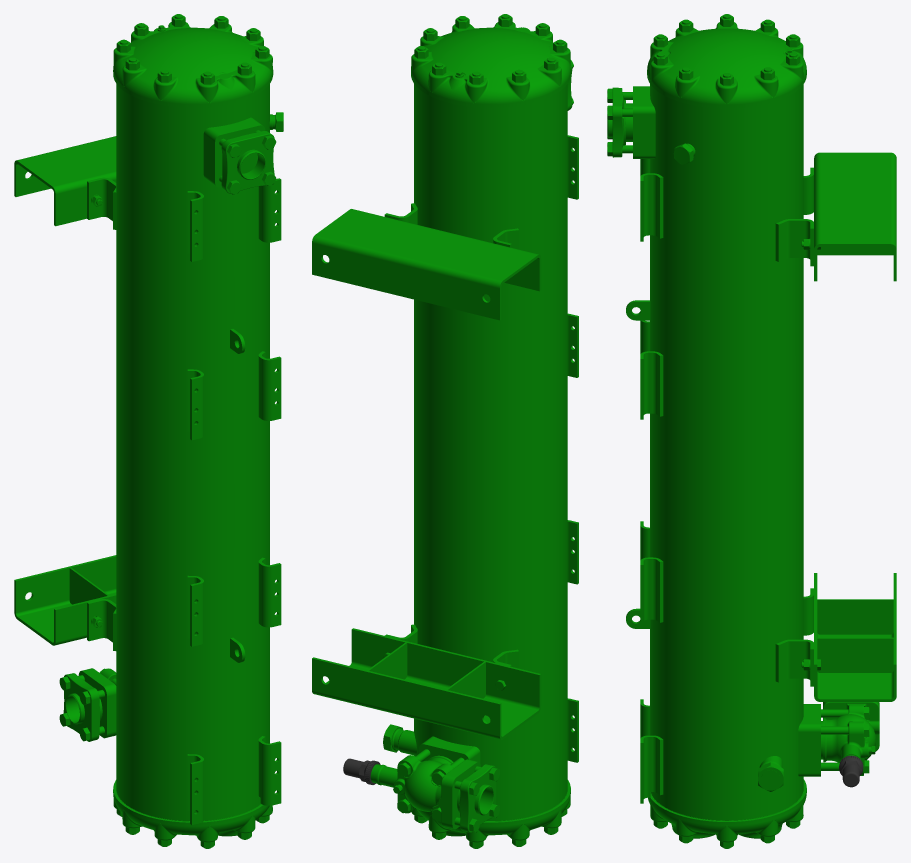
The model's file is condenser.glb.
3 renders of one model, left to right at view 1: azimuth 30°, elevation 25°; view 2: azimuth 150°, elevation 25°; view 3: azimuth 270°, elevation 25°, orthographic.
Parts seen in each view (by area): view 1: GESCHW._VERFLÜSSIGER_K2923T_KM, Z_BEFESTIGUNGSSCH_K2923T/TB_KM (×2), UMLENKDECKEL_D298_U_4-2PASS_KM, ABSPERRVENTIL_DN50_ROHR_D54_KM, ERUMLENKDECKEL_D298_A_4PASS_KM, ATZ_ANSCHLUSS_M._BUCHSE_D54_KM; view 2: GESCHW._VERFLÜSSIGER_K2923T_KM, Z_BEFESTIGUNGSSCH_K2923T/TB_KM (×2), UMLENKDECKEL_D298_U_4-2PASS_KM, ABSPERRVENTIL_DN50_ROHR_D54_KM, ERUMLENKDECKEL_D298_A_4PASS_KM; view 3: GESCHW._VERFLÜSSIGER_K2923T_KM, Z_BEFESTIGUNGSSCH_K2923T/TB_KM (×2), UMLENKDECKEL_D298_U_4-2PASS_KM, ABSPERRVENTIL_DN50_ROHR_D54_KM, ERUMLENKDECKEL_D298_A_4PASS_KM, ATZ_ANSCHLUSS_M._BUCHSE_D54_KM.
Boxes of the visible parts, bbox=[...] form: GESCHW._VERFLÜSSIGER_K2923T_KM: bbox=[87, 14, 281, 848]; Z_BEFESTIGUNGSSCH_K2923T/TB_KM (×2): bbox=[14, 136, 116, 645]; UMLENKDECKEL_D298_U_4-2PASS_KM: bbox=[113, 15, 273, 107]; ABSPERRVENTIL_DN50_ROHR_D54_KM: bbox=[59, 668, 116, 741]; ERUMLENKDECKEL_D298_A_4PASS_KM: bbox=[113, 780, 272, 848]; ATZ_ANSCHLUSS_M._BUCHSE_D54_KM: bbox=[219, 130, 276, 194]; GESCHW._VERFLÜSSIGER_K2923T_KM: bbox=[383, 14, 578, 848]; Z_BEFESTIGUNGSSCH_K2923T/TB_KM (×2): bbox=[312, 209, 541, 739]; UMLENKDECKEL_D298_U_4-2PASS_KM: bbox=[411, 15, 570, 107]; ABSPERRVENTIL_DN50_ROHR_D54_KM: bbox=[343, 749, 499, 832]; ERUMLENKDECKEL_D298_A_4PASS_KM: bbox=[411, 780, 570, 848]; GESCHW._VERFLÜSSIGER_K2923T_KM: bbox=[626, 14, 820, 848]; Z_BEFESTIGUNGSSCH_K2923T/TB_KM (×2): bbox=[801, 152, 896, 701]; UMLENKDECKEL_D298_U_4-2PASS_KM: bbox=[647, 15, 806, 108]; ABSPERRVENTIL_DN50_ROHR_D54_KM: bbox=[821, 702, 879, 787]; ERUMLENKDECKEL_D298_A_4PASS_KM: bbox=[648, 779, 806, 848]; ATZ_ANSCHLUSS_M._BUCHSE_D54_KM: bbox=[607, 87, 632, 157].
Bounding box in the file's own units: 0.42 × 1.66 × 0.561.
